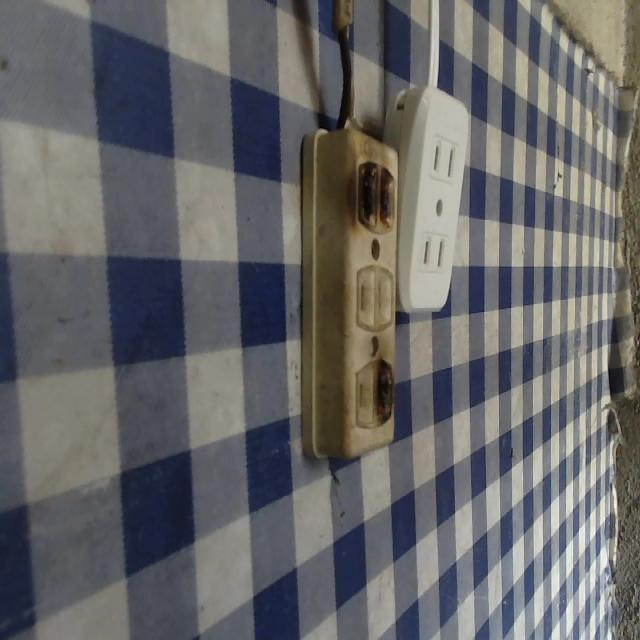-: (348, 156, 400, 236), (374, 360, 395, 425)
